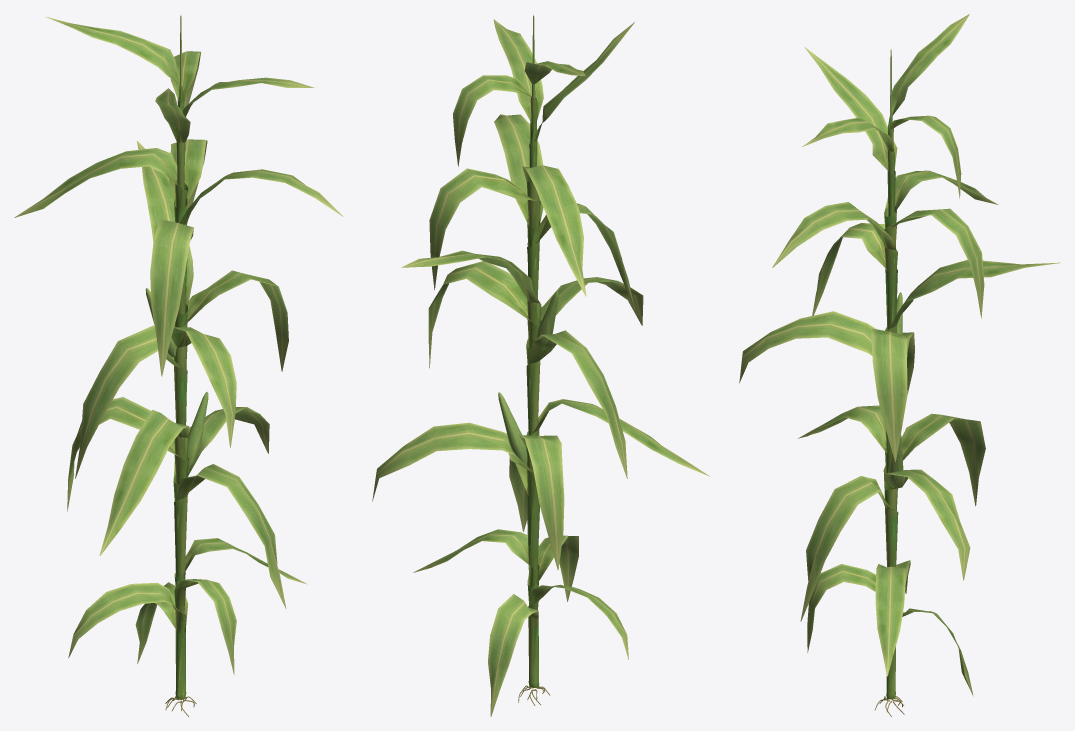
File: totalGrow.fbx
3 renders of one model, left to right at view 1: azimuth 30°, elevation 25°; view 2: azimuth 150°, elevation 25°; view 3: azimuth 270°, elevation 25°, orthographic. The views are drawn at different scales.
Parts seen in each view (by area): view 1: Plane.013, Plane.016, Plane.020, Plane.012, Plane.019, Plane.021, Plane.011, Plane.018, Plane.017, Plane.025, Plane.008, Plane.014 (+9 smaller); view 2: Plane.015, Plane.016, Plane.021, Plane.008, Plane.014, Plane.022, Plane.018, Plane.023, Plane.026, Plane.027, Plane.017, Plane.012 (+10 smaller); view 3: Plane.012, Plane.018, Plane.019, Plane.014, Plane.024, Plane.015, Plane.009, Plane.023, Plane.020, Plane.022, Plane.017, Plane.025 (+7 smaller).
Part boxes in pixels (bbox=[...]): Plane.013: bbox=[99, 410, 189, 555]; Plane.016: bbox=[75, 325, 187, 478]; Plane.020: bbox=[150, 219, 193, 376]; Plane.012: bbox=[174, 464, 286, 608]; Plane.019: bbox=[171, 327, 236, 447]; Plane.021: bbox=[14, 148, 188, 217]; Plane.011: bbox=[68, 582, 185, 657]; Plane.018: bbox=[174, 270, 288, 371]; Plane.017: bbox=[137, 141, 193, 327]; Plane.025: bbox=[45, 16, 184, 103]; Plane.008: bbox=[135, 582, 187, 699]; Plane.014: bbox=[67, 397, 188, 511]; Plane.015: bbox=[372, 422, 537, 501]; Plane.016: bbox=[526, 330, 627, 478]; Plane.021: bbox=[522, 165, 586, 296]; Plane.008: bbox=[488, 594, 539, 716]; Plane.014: bbox=[519, 435, 564, 569]; Plane.022: bbox=[429, 168, 540, 289]; Plane.018: bbox=[428, 261, 541, 368]; Plane.023: bbox=[494, 114, 543, 247]; Plane.026: bbox=[453, 75, 537, 166]; Plane.027: bbox=[493, 19, 543, 144]; Plane.017: bbox=[401, 250, 541, 325]; Plane.012: bbox=[509, 458, 539, 569]; Plane.012: bbox=[800, 476, 898, 621]; Plane.018: bbox=[871, 328, 907, 462]; Plane.019: bbox=[739, 311, 876, 383]; Plane.014: bbox=[883, 413, 985, 506]; Plane.024: bbox=[804, 47, 897, 216]; Plane.015: bbox=[884, 469, 970, 580]; Plane.009: bbox=[875, 564, 905, 676]; Plane.023: bbox=[772, 202, 897, 274]; Plane.020: bbox=[812, 223, 897, 329]; Plane.022: bbox=[884, 208, 984, 318]; Plane.017: bbox=[885, 259, 1060, 333]; Plane.025: bbox=[887, 14, 969, 134].
Bounding box in the file's own units: 1.57 × 3.56 × 1.37.
Materials: 2 (2 with a texture image).
